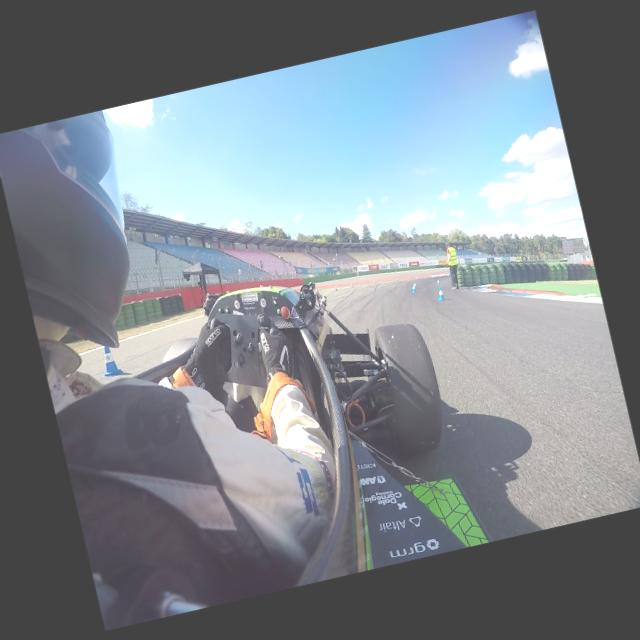blue_cone: (99, 343, 122, 376), (436, 286, 444, 300), (410, 284, 416, 292), (413, 280, 417, 288), (333, 284, 338, 290), (436, 278, 440, 284), (350, 282, 353, 287), (396, 276, 398, 282)
